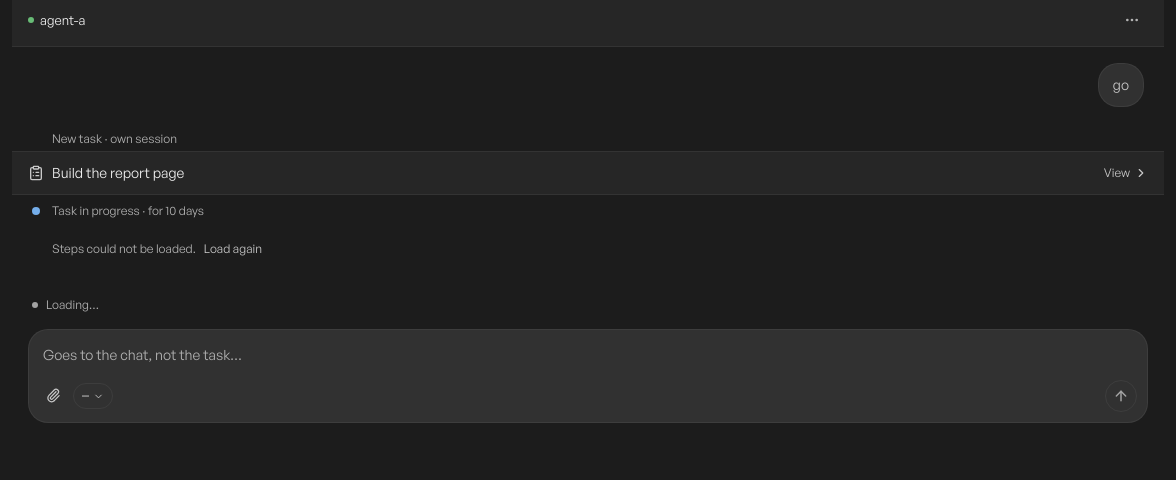
ChatView — task sections (spec A) › SHOULD-2: a live section whose steps fail to load says so under its head and retries
The width and height of the screenshot is (1176, 480).
Expected: the text "Steps could not be loaded." is shown, top-left (52, 241), bottom-right (196, 256)
Click the button "Load again" at (233, 249), box top-left (204, 227), bottom-right (262, 271)
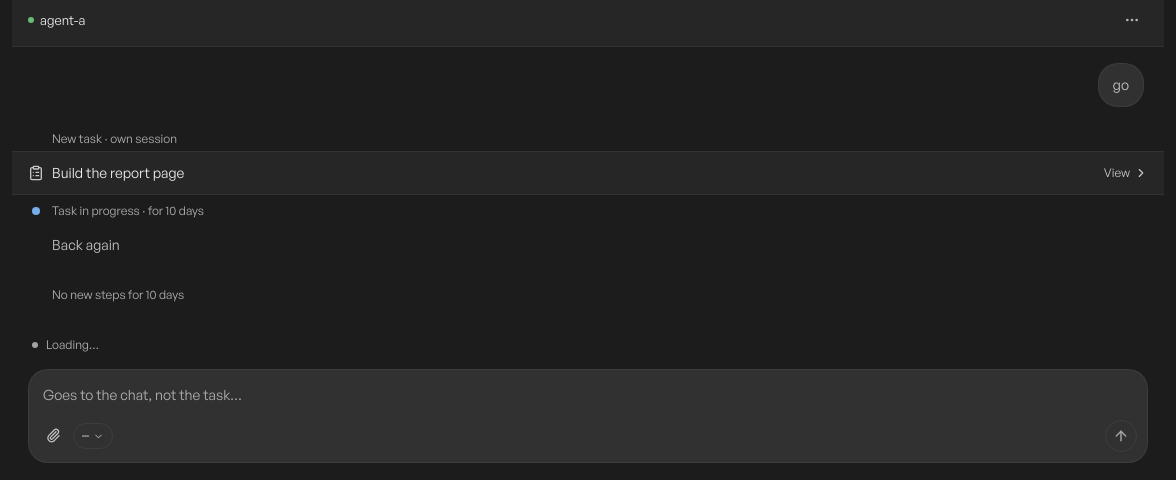
Expected: the text "Back again" is shown, top-left (52, 236), bottom-right (120, 253)
Expected: the text "Steps could not be loaded." is gone
